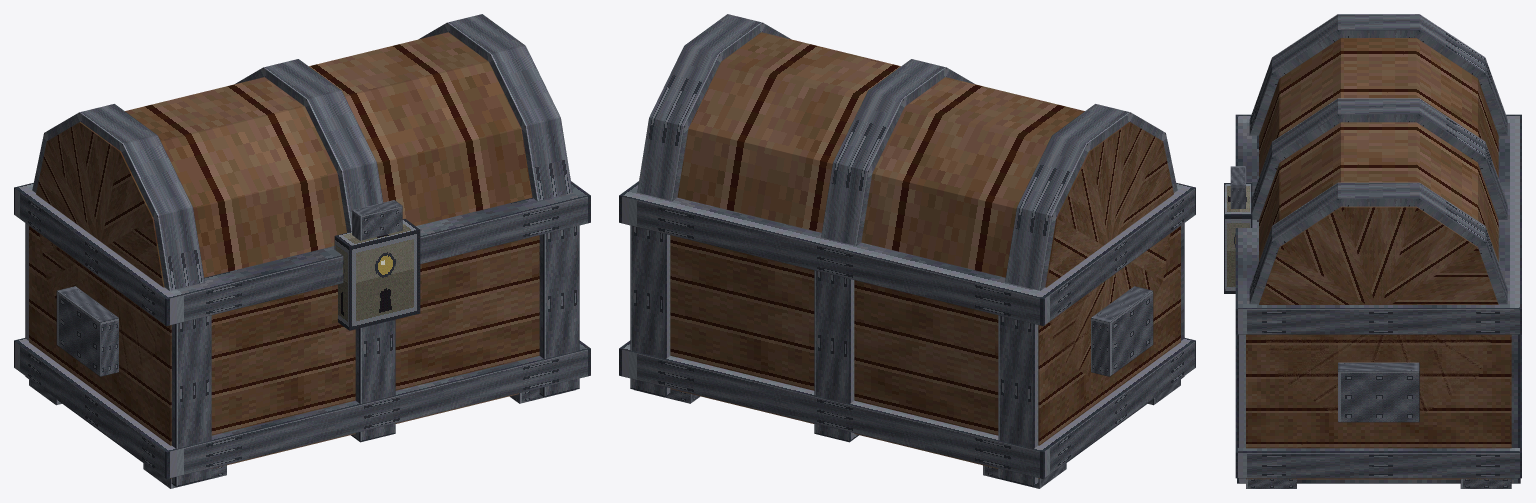
Rendered from catacumba_bau.glb.
3 views of the same model, side by side, from view 1: azimuth 30°, elevation 25°; view 2: azimuth 150°, elevation 25°; view 3: azimuth 270°, elevation 25° (orthographic). The views are drawn at different scales.
Parts seen in each view (by area): view 1: catacumba_bau; view 2: catacumba_bau; view 3: catacumba_bau.
Part boxes in pixels (<box>): catacumba_bau: <box>14,14,590,488</box>; catacumba_bau: <box>619,14,1195,488</box>; catacumba_bau: <box>1224,14,1521,488</box>.
Bounding box in the file's own units: 0.95 × 0.6254 × 0.5825.
Materials: 1 (1 with a texture image).
